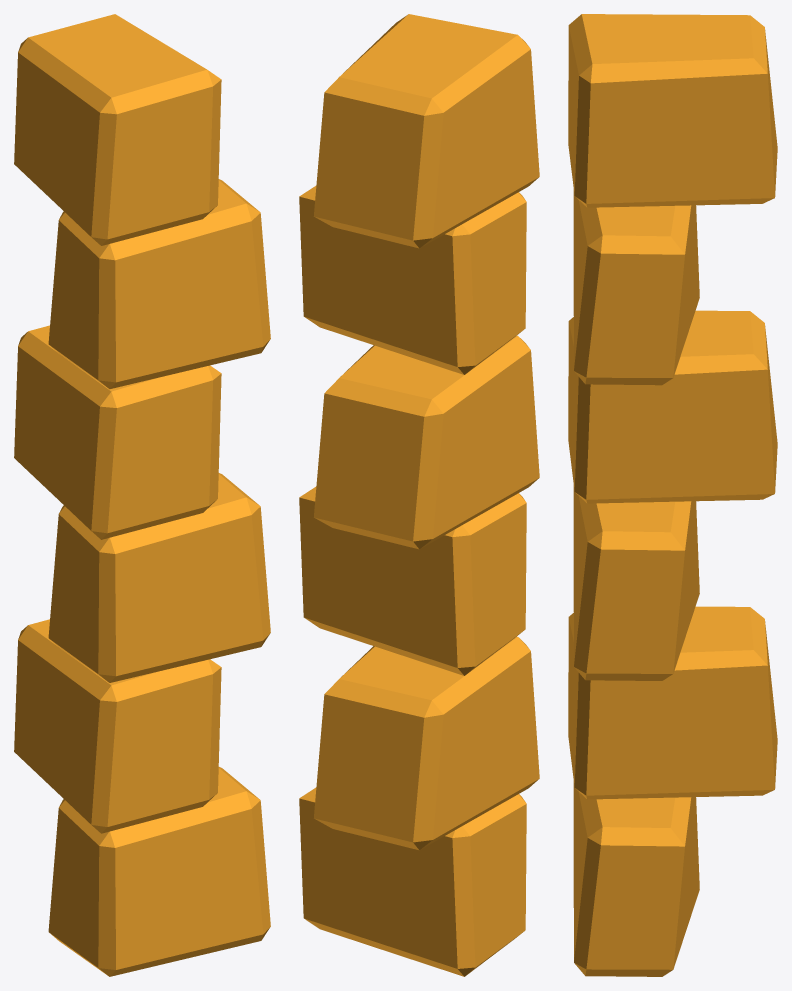
File: SM_Wall_Thick_Corner_Out_Stone_3m_Ext_Fantasy.fbx
3 views of the same model, side by side, from view 1: azimuth 30°, elevation 25°; view 2: azimuth 150°, elevation 25°; view 3: azimuth 270°, elevation 25° (orthographic). The views are drawn at different scales.
Visible parts, largest first — view 1: SM_Wall_Thick_Corner_Out_Stone_3m_Ext_Fantasy; view 2: SM_Wall_Thick_Corner_Out_Stone_3m_Ext_Fantasy; view 3: SM_Wall_Thick_Corner_Out_Stone_3m_Ext_Fantasy.
Part boxes in pixels (box(x1,y1,x2,y2)): SM_Wall_Thick_Corner_Out_Stone_3m_Ext_Fantasy: box(14, 14, 270, 976); SM_Wall_Thick_Corner_Out_Stone_3m_Ext_Fantasy: box(299, 14, 539, 976); SM_Wall_Thick_Corner_Out_Stone_3m_Ext_Fantasy: box(568, 14, 777, 976).
Size of the model in its own units: 0.661 by 3.02 by 0.6456.
